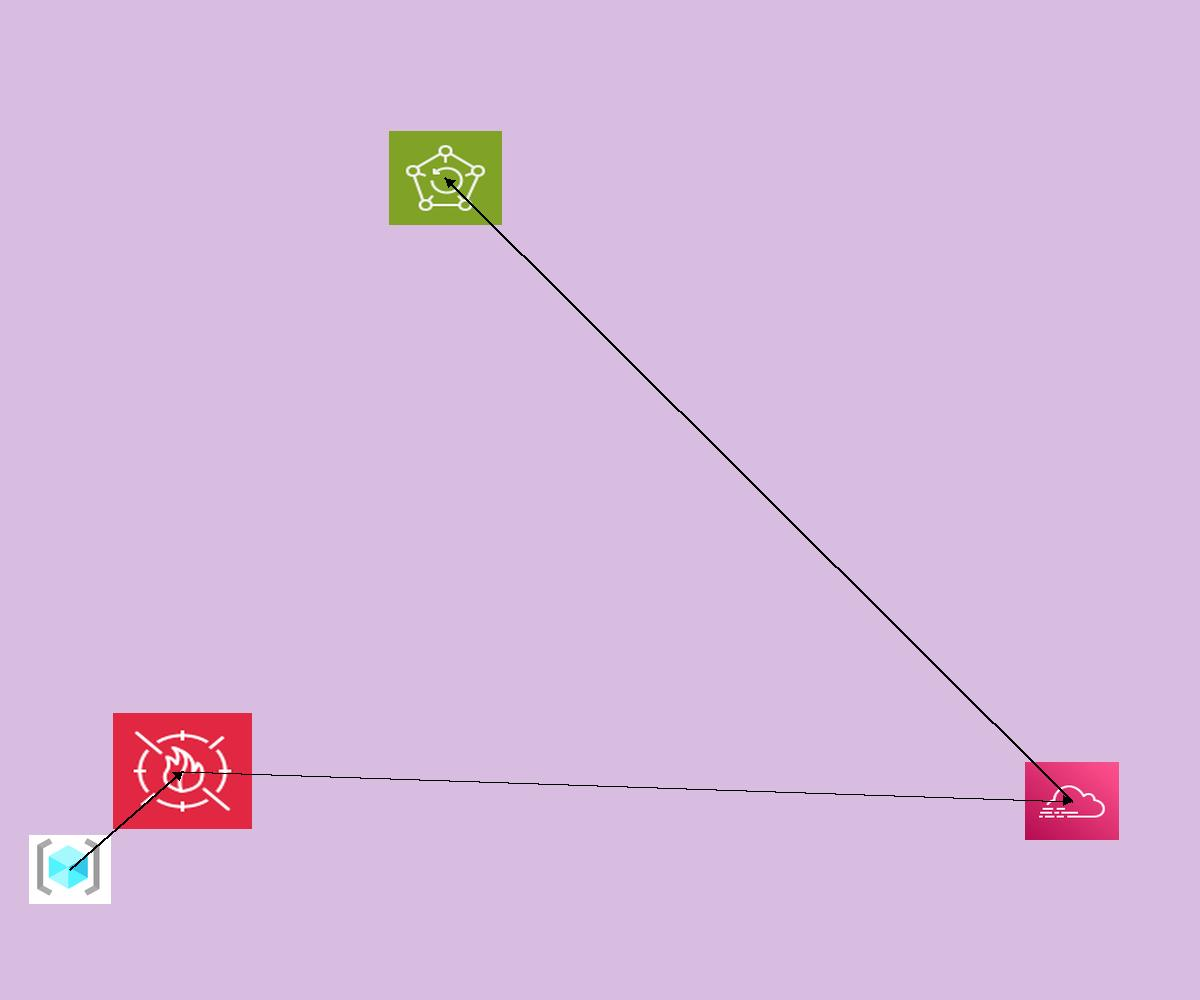AWS-Backup: (389, 131, 502, 225)
AWS-CloudTrail: (1025, 762, 1119, 840)
AWS-WAF: (113, 713, 252, 829)
Azure_resource_group: (29, 835, 111, 904)
